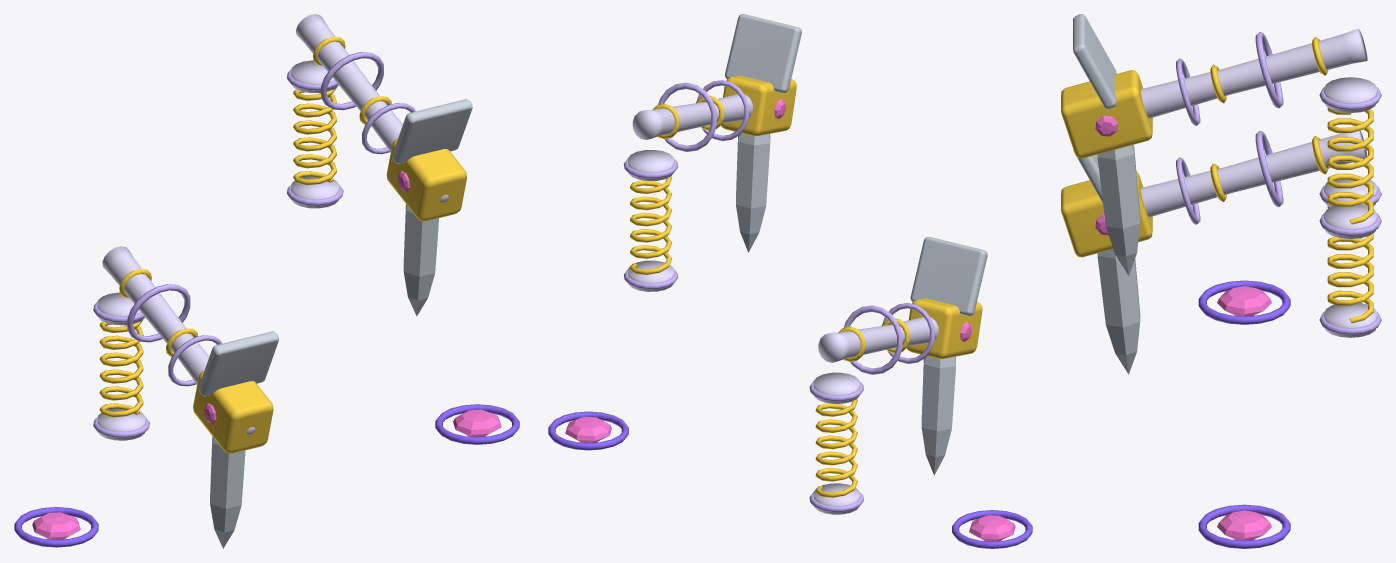
Rendered from IcePickPost_T4_Upgrades.fbx.
The picture shows the model from 3 angles, left to right: view 1: azimuth 30°, elevation 25°; view 2: azimuth 150°, elevation 25°; view 3: azimuth 270°, elevation 25°; orthographic projection. The views are drawn at different scales.
Visible parts, largest first — view 1: IcePickPostT4U1PickB, IcePickPostT4U1PickA, IcePickPostT4U3Spring1, IcePickPostT4U3Spring2, IcePickPostT4U2Lamp2Glow, IcePickPostT4U2Lamp1Glow, IcePickPostT4U1PickAGlow, IcePickPostT4U1PickBGlow, IcePickPostT4U3Spring1Glow, IcePickPostT4U3Spring2Glow; view 2: IcePickPostT4U1PickA, IcePickPostT4U1PickB, IcePickPostT4U3Spring1, IcePickPostT4U3Spring2, IcePickPostT4U2Lamp1Glow, IcePickPostT4U2Lamp2Glow, IcePickPostT4U1PickAGlow, IcePickPostT4U1PickBGlow, IcePickPostT4U3Spring1Glow, IcePickPostT4U3Spring2Glow; view 3: IcePickPostT4U1PickB, IcePickPostT4U1PickA, IcePickPostT4U3Spring2, IcePickPostT4U3Spring1, IcePickPostT4U2Lamp1Glow, IcePickPostT4U2Lamp2Glow, IcePickPostT4U1PickBGlow, IcePickPostT4U1PickAGlow, IcePickPostT4U3Spring2Glow, IcePickPostT4U3Spring1Glow.
Part boxes in pixels (x1,y1,x2,y2): IcePickPostT4U1PickB: (296, 14, 472, 316); IcePickPostT4U1PickA: (102, 246, 278, 548); IcePickPostT4U3Spring1: (97, 292, 145, 440); IcePickPostT4U3Spring2: (291, 60, 339, 208); IcePickPostT4U2Lamp2Glow: (435, 404, 519, 444); IcePickPostT4U2Lamp1Glow: (14, 507, 98, 547); IcePickPostT4U1PickAGlow: (127, 284, 221, 424); IcePickPostT4U1PickBGlow: (321, 52, 415, 191); IcePickPostT4U3Spring1Glow: (93, 301, 149, 438); IcePickPostT4U3Spring2Glow: (287, 69, 343, 205); IcePickPostT4U1PickA: (818, 237, 987, 475); IcePickPostT4U1PickB: (632, 14, 801, 252); IcePickPostT4U3Spring1: (813, 372, 859, 514); IcePickPostT4U3Spring2: (628, 150, 673, 291); IcePickPostT4U2Lamp1Glow: (952, 510, 1032, 548); IcePickPostT4U2Lamp2Glow: (548, 411, 628, 450); IcePickPostT4U1PickAGlow: (844, 303, 971, 374); IcePickPostT4U1PickBGlow: (658, 80, 785, 151); IcePickPostT4U3Spring1Glow: (809, 381, 863, 512); IcePickPostT4U3Spring2Glow: (623, 158, 678, 289); IcePickPostT4U1PickB: (1061, 14, 1367, 275); IcePickPostT4U1PickA: (1061, 130, 1367, 374); IcePickPostT4U3Spring2: (1324, 77, 1377, 238); IcePickPostT4U3Spring1: (1324, 180, 1377, 337); IcePickPostT4U2Lamp1Glow: (1198, 280, 1290, 324); IcePickPostT4U2Lamp2Glow: (1198, 504, 1290, 548); IcePickPostT4U1PickBGlow: (1095, 32, 1283, 136); IcePickPostT4U1PickAGlow: (1095, 130, 1283, 235); IcePickPostT4U3Spring2Glow: (1319, 87, 1381, 236); IcePickPostT4U3Spring1Glow: (1319, 185, 1381, 335).
Bounding box in the file's own units: 182 × 147 × 93.58.
